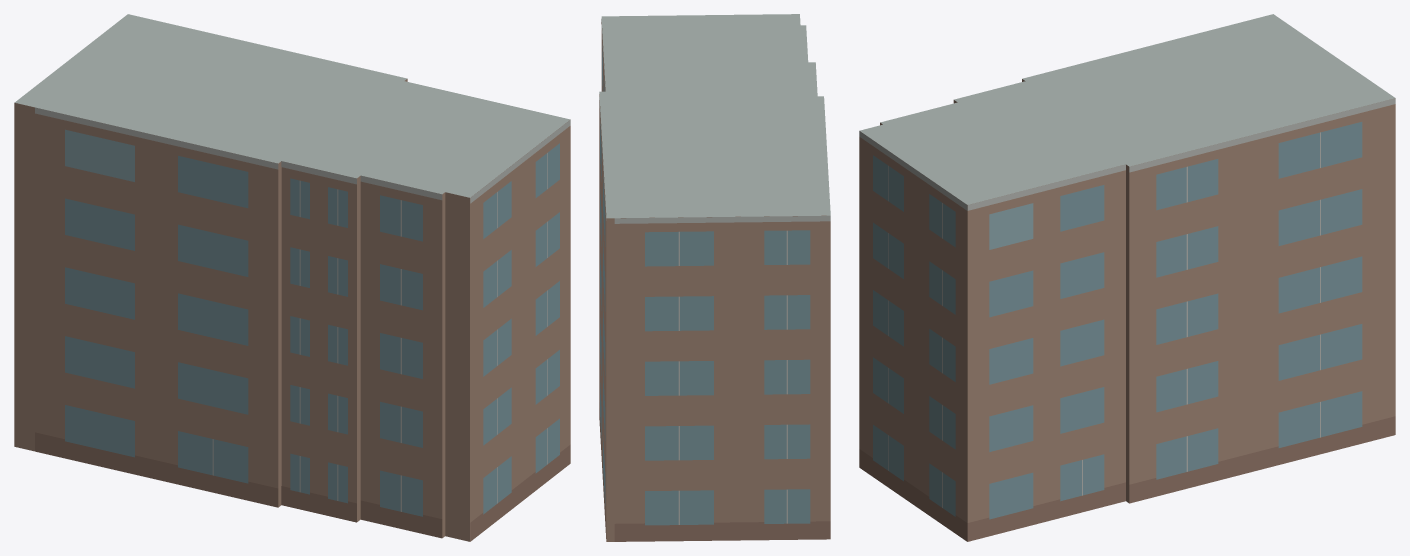
File: survey-upis-33047028.glb
3 renders of one model, left to right at view 1: azimuth 30°, elevation 25°; view 2: azimuth 150°, elevation 25°; view 3: azimuth 270°, elevation 25°, orthographic. The views are drawn at different scales.
Visible parts, largest first — view 1: survey-upis-33047028.tmp; view 2: survey-upis-33047028.tmp; view 3: survey-upis-33047028.tmp.
Boxes of the visible parts, left/top/right/bottom form: survey-upis-33047028.tmp: left=14, top=14, right=570, bottom=541; survey-upis-33047028.tmp: left=599, top=14, right=830, bottom=541; survey-upis-33047028.tmp: left=859, top=14, right=1395, bottom=541.
Size of the model in its own units: 16.92 by 13.9 by 20.06.
